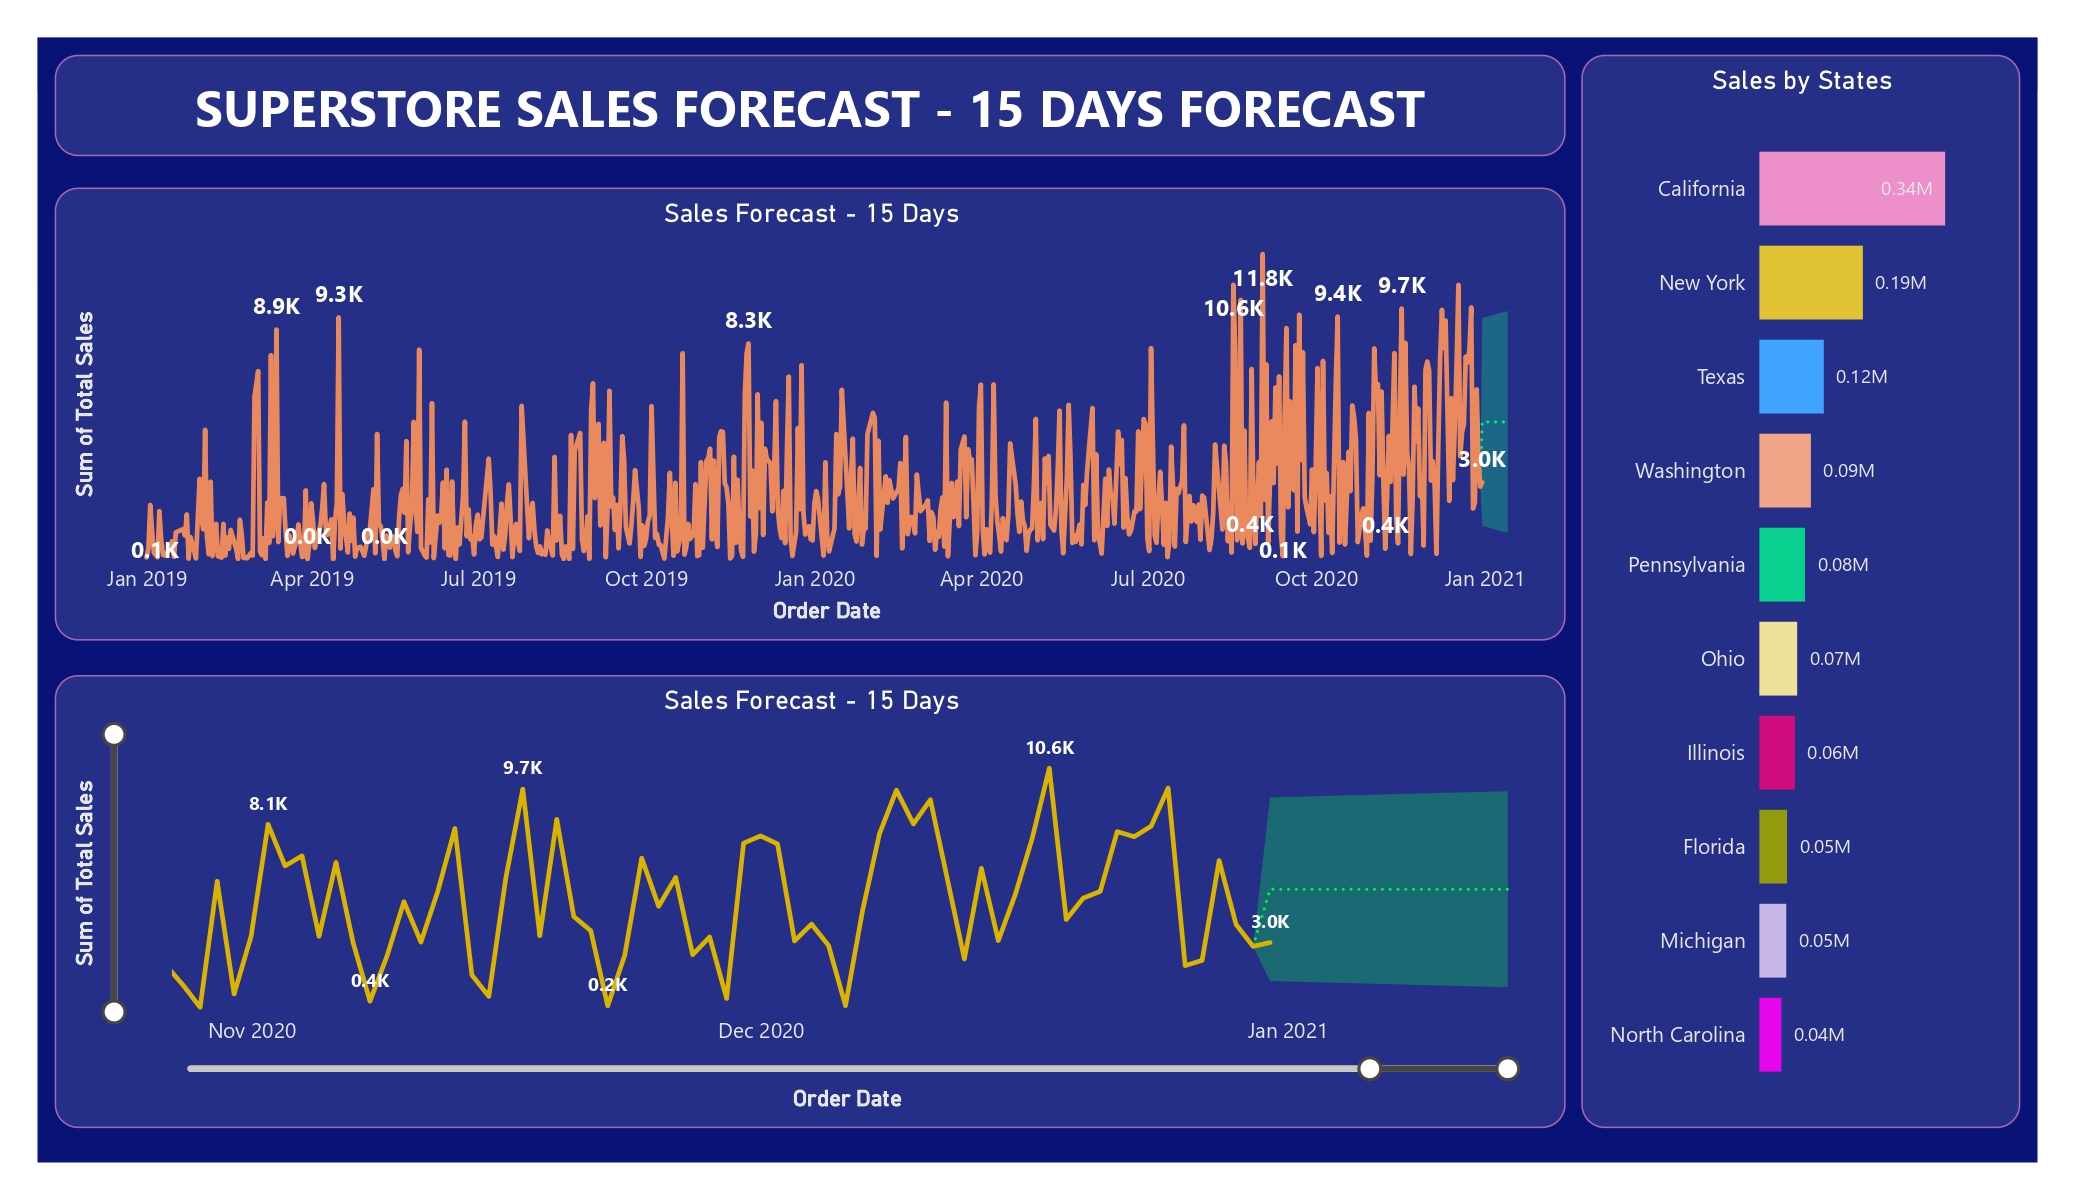

The dashboard page shown, as its layout file describes it:
{"tool":"powerbi","page":{"name":"Page 2","canvas":[1280,720],"ordinal":1},"visuals":[{"type":"lineChart","title":"Sales Forecast - 15 Days","fields":{"Category":["SalesForecast.Order Date"],"Y":["Sum(SalesForecast.Total Sales)"]},"box":[10.9,95.6,967.2,290.5],"z":0},{"type":"lineChart","title":"Sales Forecast - 15 Days","fields":{"Category":["SalesForecast.Order Date"],"Y":["Sum(SalesForecast.Total Sales)"]},"box":[10.9,407.9,967.2,290.5],"z":1000},{"type":"textbox","box":[10.9,10.9,967.2,65.4],"z":2000},{"type":"clusteredBarChart","title":"Sales by States","fields":{"Category":["SuperStore_Sales_Dataset.State"],"Y":["Sum(SuperStore_Sales_Dataset.Sales)"]},"box":[987.8,10.9,280.8,687.6],"z":3000}]}

Visuals, with their boxes on the page's 1280x720 design canvas (x1, y1, x2, y2). These are canvas units, not pixel positions in the 2075x1200 screenshot, which may show the page scaled, cropped or inside an application window:
"Sales Forecast - 15 Days" lineChart: locate(11, 96, 978, 386)
"Sales Forecast - 15 Days" lineChart: locate(11, 408, 978, 698)
textbox: locate(11, 11, 978, 76)
"Sales by States" clusteredBarChart: locate(988, 11, 1269, 698)
